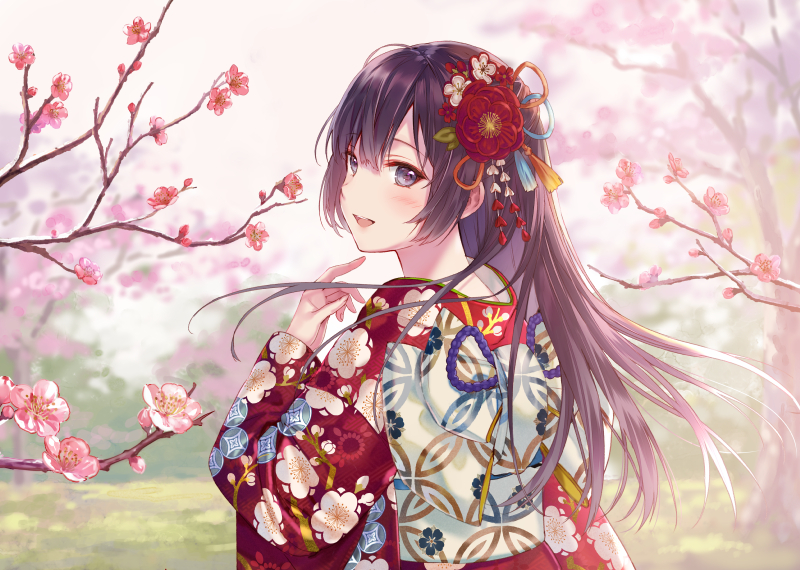纸片人正脸: (317, 31, 525, 261)
